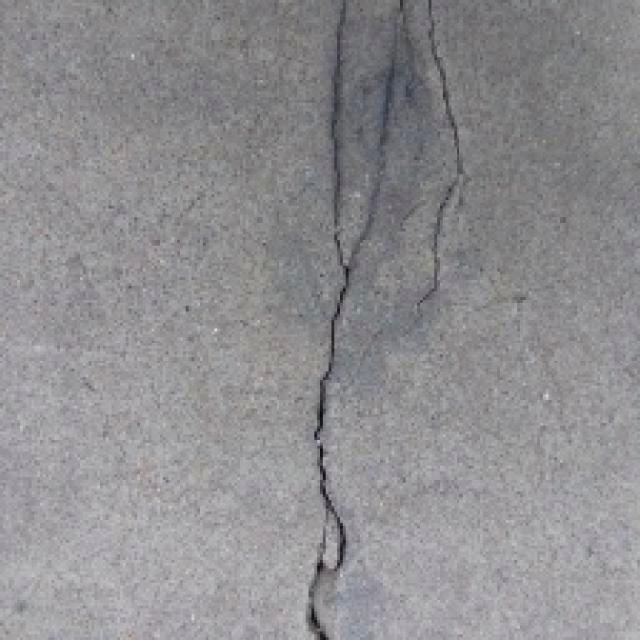SurfaceCrack: (274, 0, 482, 640)
